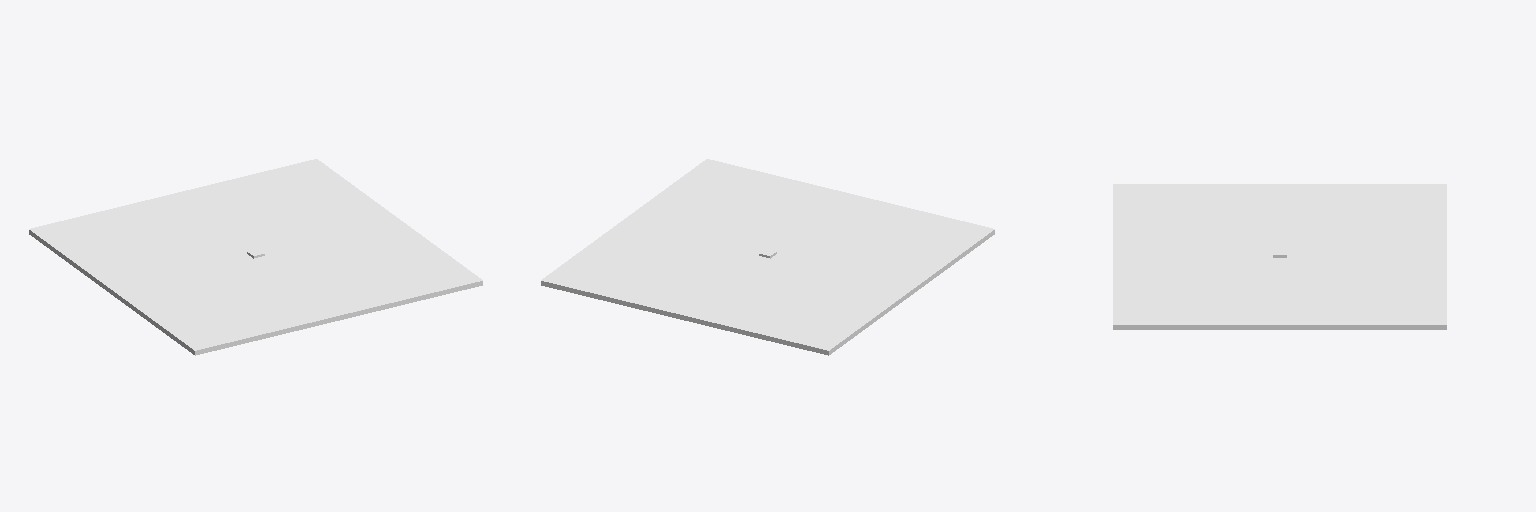
File: StageAreaBase.obj
The picture shows the model from 3 angles: view 1: azimuth 30°, elevation 25°; view 2: azimuth 150°, elevation 25°; view 3: azimuth 270°, elevation 25°; orthographic projection.
Visible parts, largest first — view 1: object 1; view 2: object 1; view 3: object 1.
Part boxes in pixels (left/top/right/bottom): object 1: left=29, top=159, right=482, bottom=355; object 1: left=541, top=159, right=994, bottom=355; object 1: left=1113, top=184, right=1446, bottom=329.
Size of the model in its own units: 25 by 0.6 by 25.